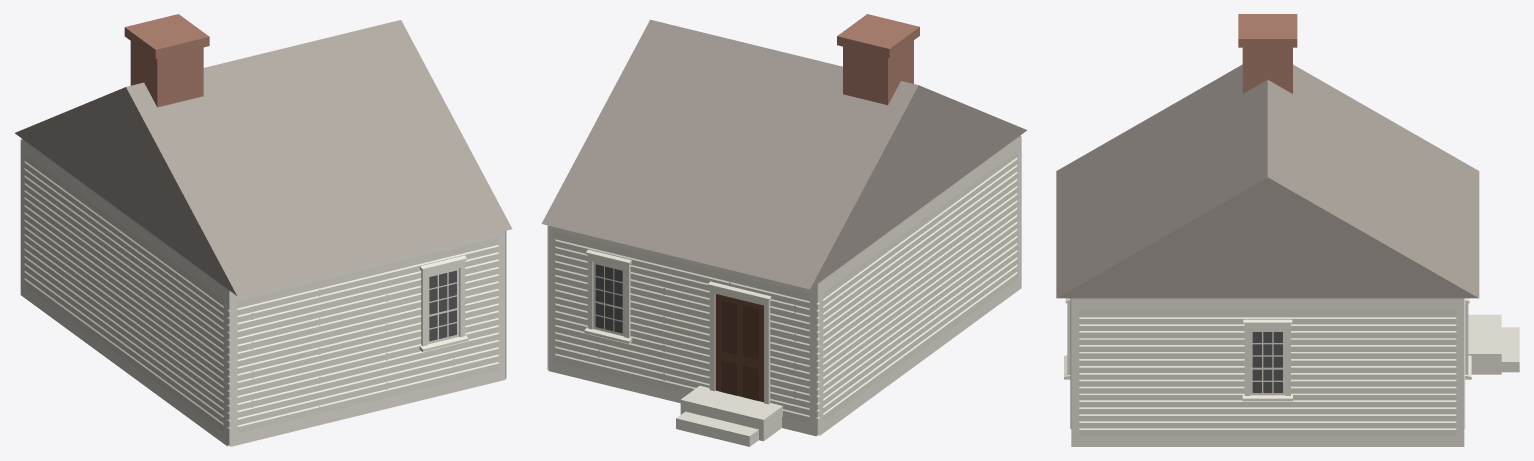
Rendered from recon_1835_south_d3_008__inferred_1835.glb.
3 renders of one model, left to right at view 1: azimuth 30°, elevation 25°; view 2: azimuth 150°, elevation 25°; view 3: azimuth 270°, elevation 25°, orthographic. The views are drawn at different scales.
Visible parts, largest first — view 1: recon_1835_south_d3_008__inferred_1835; view 2: recon_1835_south_d3_008__inferred_1835; view 3: recon_1835_south_d3_008__inferred_1835.
Boxes of the visible parts, left/top/right/bottom form: recon_1835_south_d3_008__inferred_1835: left=15, top=14, right=512, bottom=446; recon_1835_south_d3_008__inferred_1835: left=541, top=14, right=1026, bottom=446; recon_1835_south_d3_008__inferred_1835: left=1056, top=14, right=1519, bottom=446.
Size of the model in its own units: 5.16 by 5.7 by 7.69.
